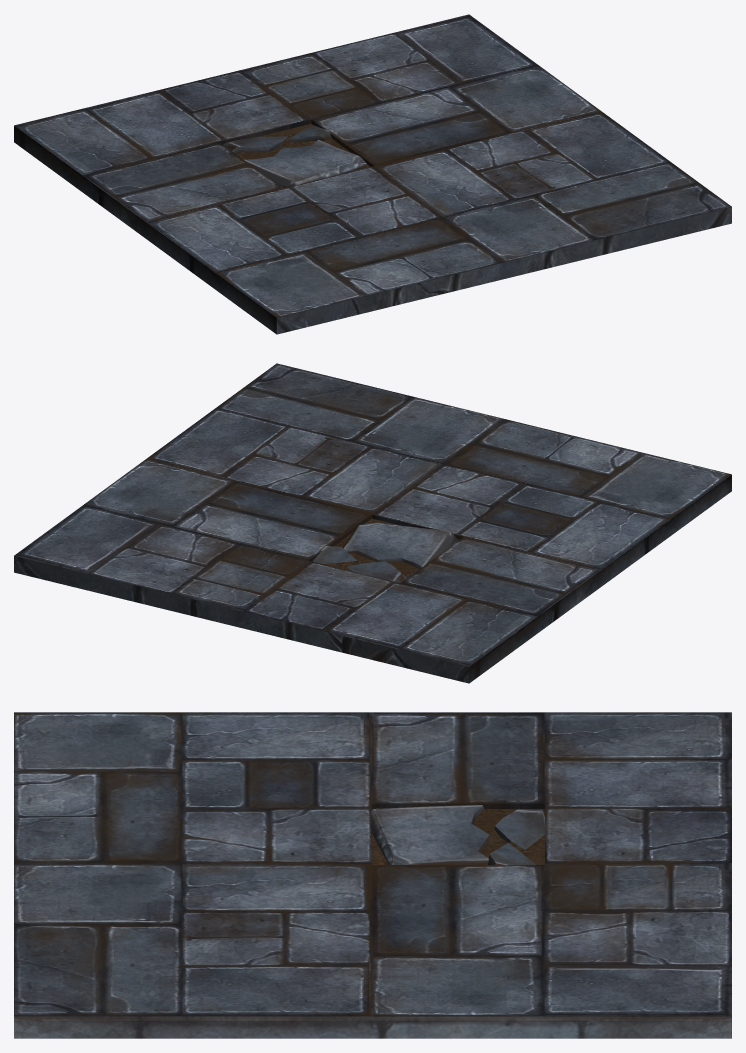
File: B_shitoudimian06.fbx
3 renders of one model, top to bottom at view 1: azimuth 30°, elevation 25°; view 2: azimuth 150°, elevation 25°; view 3: azimuth 270°, elevation 25°, orthographic. The views are drawn at different scales.
Visible parts, largest first — view 1: B_shitoudimian06; view 2: B_shitoudimian06; view 3: B_shitoudimian06.
Part boxes in pixels (bbox=[...]): B_shitoudimian06: bbox=[14, 14, 731, 334]; B_shitoudimian06: bbox=[14, 363, 731, 683]; B_shitoudimian06: bbox=[14, 712, 731, 1038].
Size of the model in its own units: 443 by 17.93 by 443.
